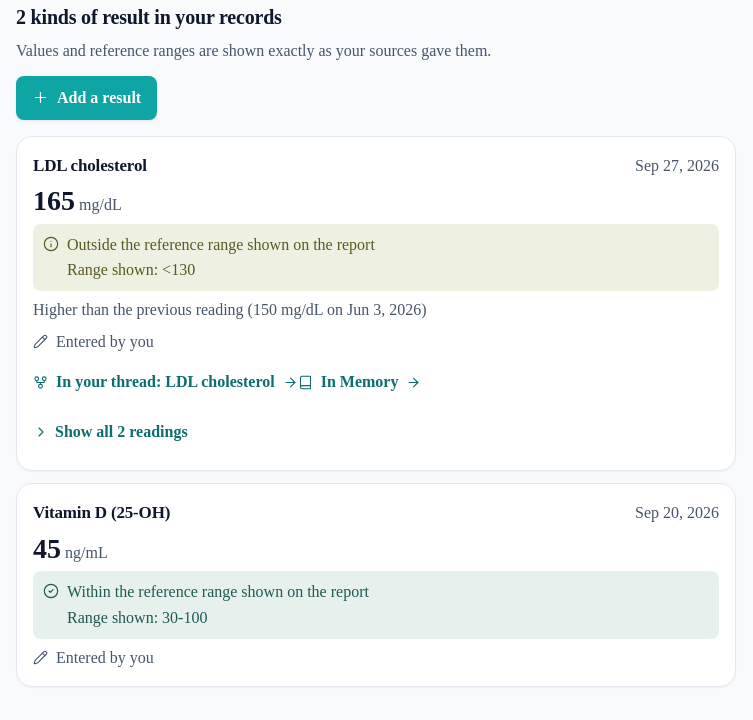
ResultsLive › keeps the full trend collapsed until asked, then shows every reading
Click the button "Show all 2 readings".
click(110, 432)  # box [33,410,188,454]
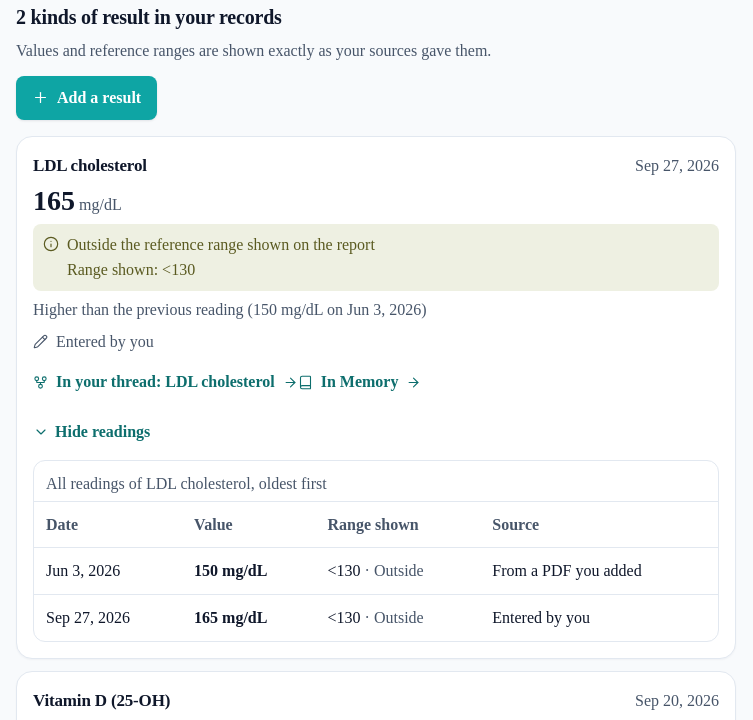
Check: the button named "show all 2 readings" is expanded, box [33,410,150,454]
Check: the number of rows is 3, box [34,501,718,548]; [34,548,718,594]; [34,594,718,640]
Check: the text "150 mg/dL" is shown, box [182,548,316,594]
